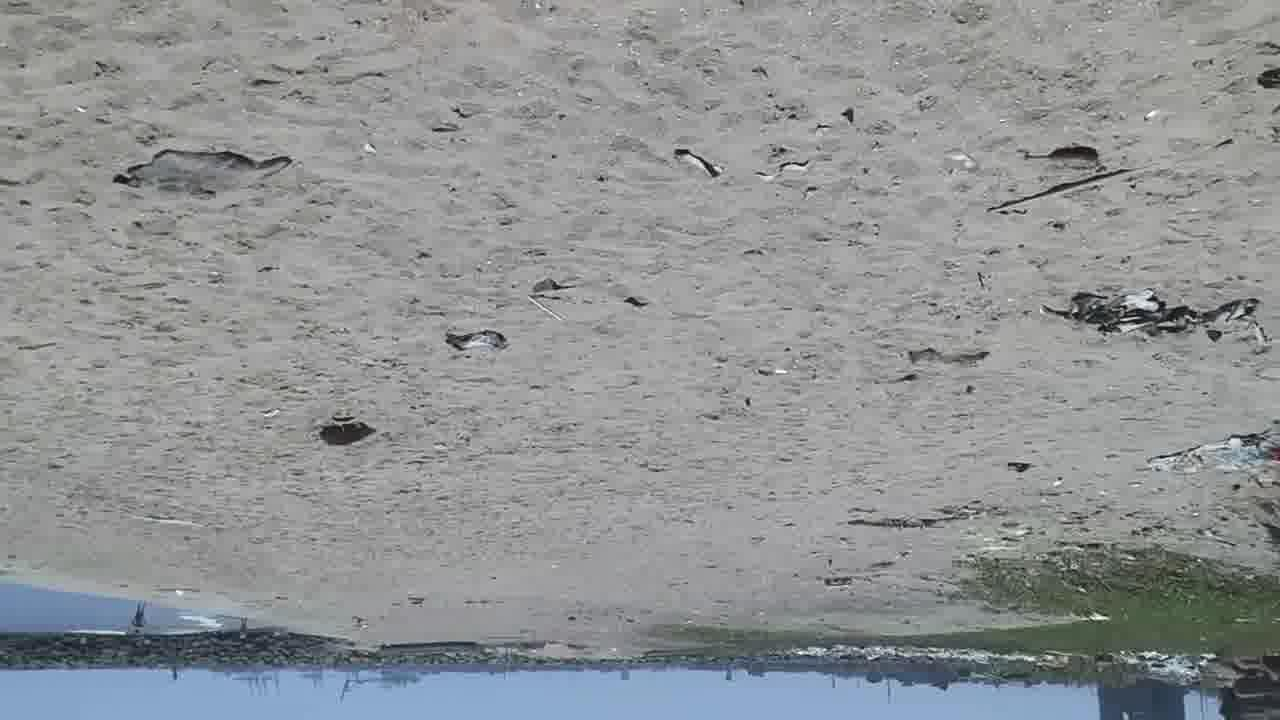obj: (646, 538, 1274, 657), (1033, 285, 1265, 348), (111, 146, 292, 201), (1136, 420, 1278, 490), (984, 168, 1130, 221), (753, 151, 816, 184), (318, 413, 380, 444), (1022, 144, 1108, 166), (672, 145, 719, 182), (444, 327, 510, 353), (526, 276, 585, 301), (528, 294, 564, 322)
sand/background: (0, 565, 1279, 719)
